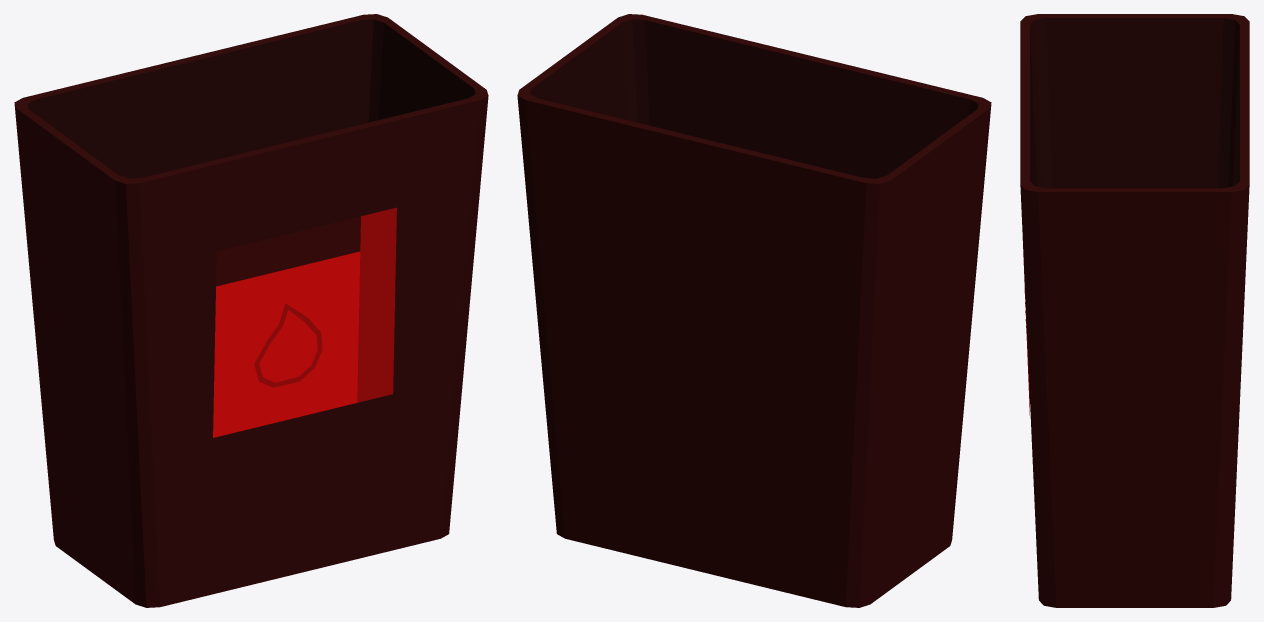
File: TrashBin.002.glb
3 renders of one model, left to right at view 1: azimuth 30°, elevation 25°; view 2: azimuth 150°, elevation 25°; view 3: azimuth 270°, elevation 25°, orthographic.
Visible parts, largest first — view 1: TrashBin.002; view 2: TrashBin.002; view 3: TrashBin.002.
Part boxes in pixels (<box>): TrashBin.002: <box>14,14,488,607</box>; TrashBin.002: <box>517,14,991,607</box>; TrashBin.002: <box>1020,14,1249,607</box>.
Bounding box in the file's own units: 2.64 × 2.97 × 1.43.
